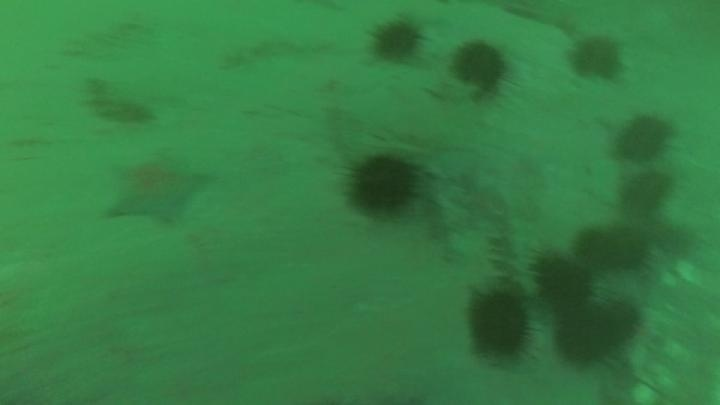echinus: (343, 150, 422, 219), (464, 286, 535, 362), (554, 303, 623, 366), (576, 223, 651, 274), (449, 38, 511, 95), (533, 252, 594, 308), (613, 111, 675, 165), (567, 34, 625, 83), (368, 15, 424, 64), (619, 169, 673, 215), (594, 296, 643, 346), (656, 221, 698, 261)
holothurian: (83, 74, 158, 128), (486, 223, 537, 297)
starfish: (101, 149, 213, 228)
